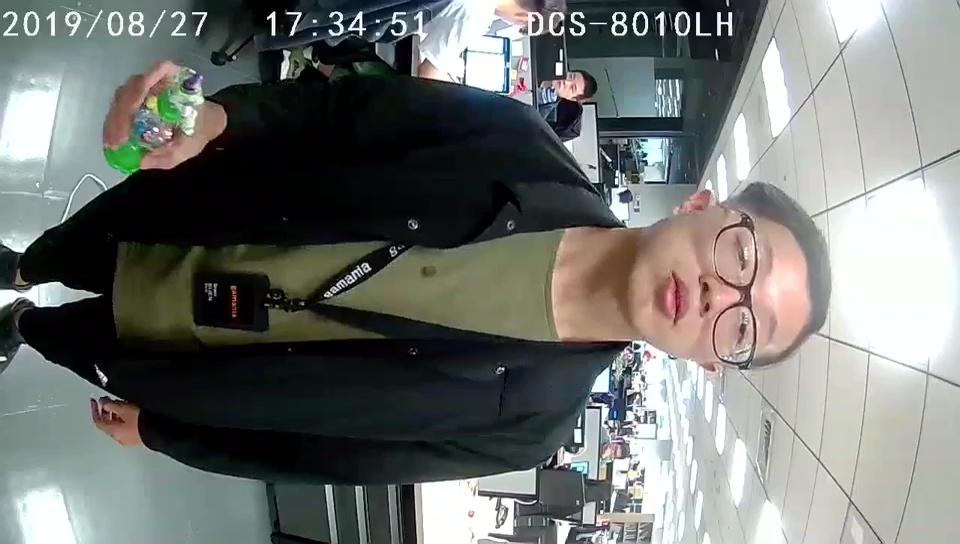buzz: (100, 63, 204, 174)
